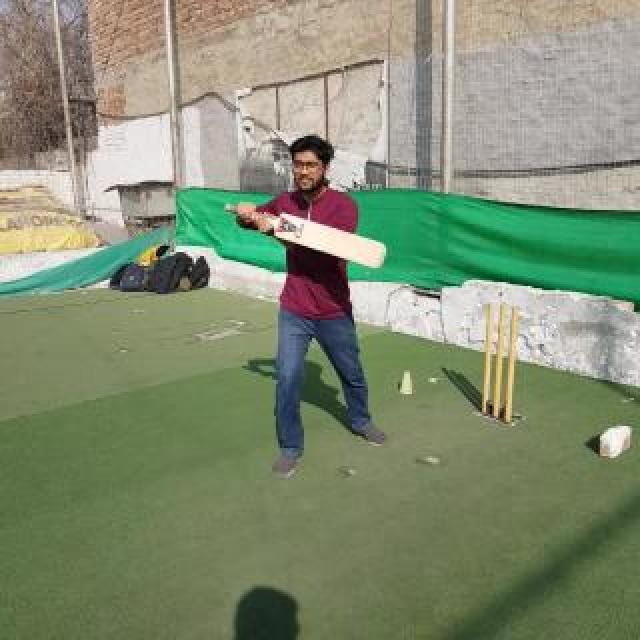bat: (224, 204, 388, 270)
